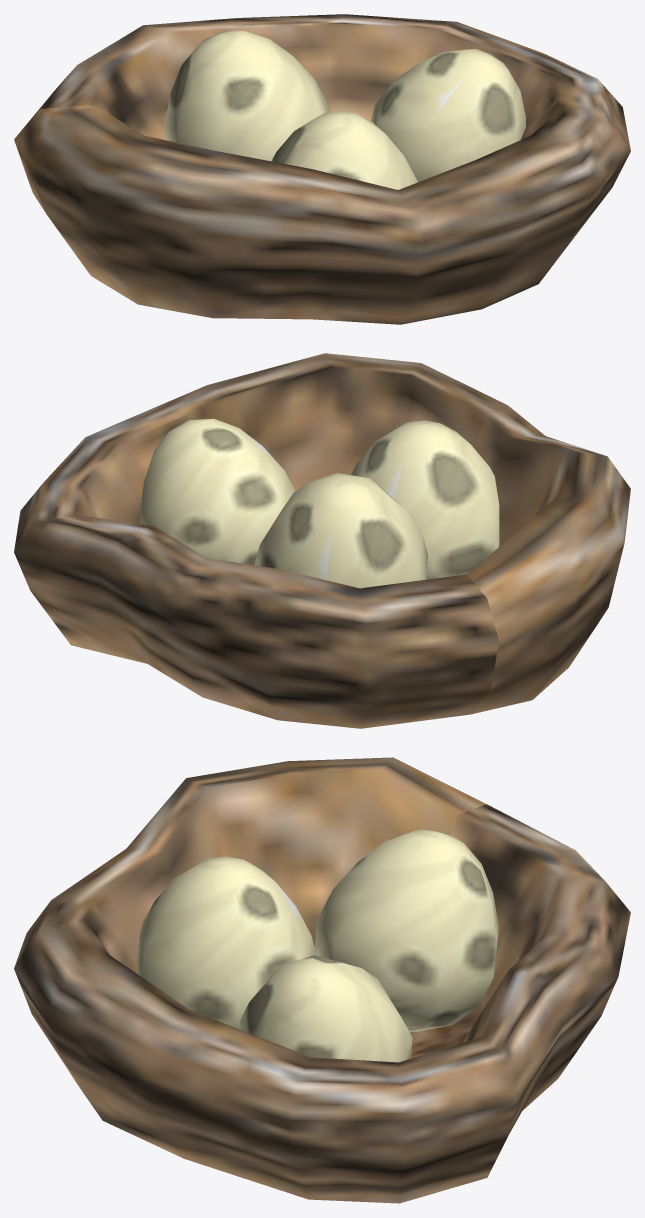
File: nest.fbx
3 renders of one model, top to bottom at view 1: azimuth 30°, elevation 25°; view 2: azimuth 150°, elevation 25°; view 3: azimuth 270°, elevation 25°, orthographic. The views are drawn at different scales.
Parts seen in each view (by area): view 1: polySurface1925; view 2: polySurface1925; view 3: polySurface1925.
Boxes of the visible parts, <box> form: polySurface1925: <box>14,14,630,324</box>; polySurface1925: <box>14,353,630,728</box>; polySurface1925: <box>14,757,630,1203</box>.
Size of the model in its own units: 33.92 by 13.05 by 30.15.
